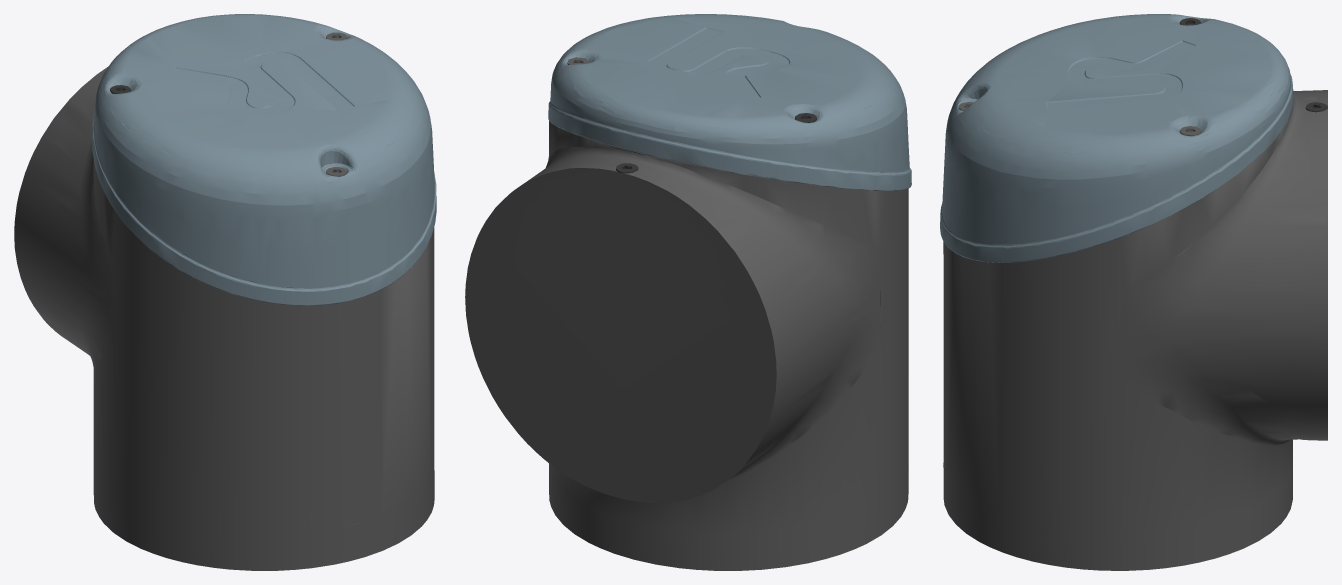
File: shoulder.dae
The picture shows the model from 3 angles, left to right: view 1: azimuth 30°, elevation 25°; view 2: azimuth 150°, elevation 25°; view 3: azimuth 270°, elevation 25°; orthographic projection. The views are drawn at different scales.
Parts seen in each view (by area): view 1: node0, node1; view 2: node0, node1; view 3: node0, node1.
Part boxes in pixels (<box>): node0: <box>14,66,434,570</box>; node1: <box>92,14,436,305</box>; node0: <box>465,121,908,570</box>; node1: <box>548,14,911,190</box>; node0: <box>943,90,1327,570</box>; node1: <box>940,14,1293,262</box>.
Size of the model in its own units: 0.091 by 0.0999 by 0.1229.
